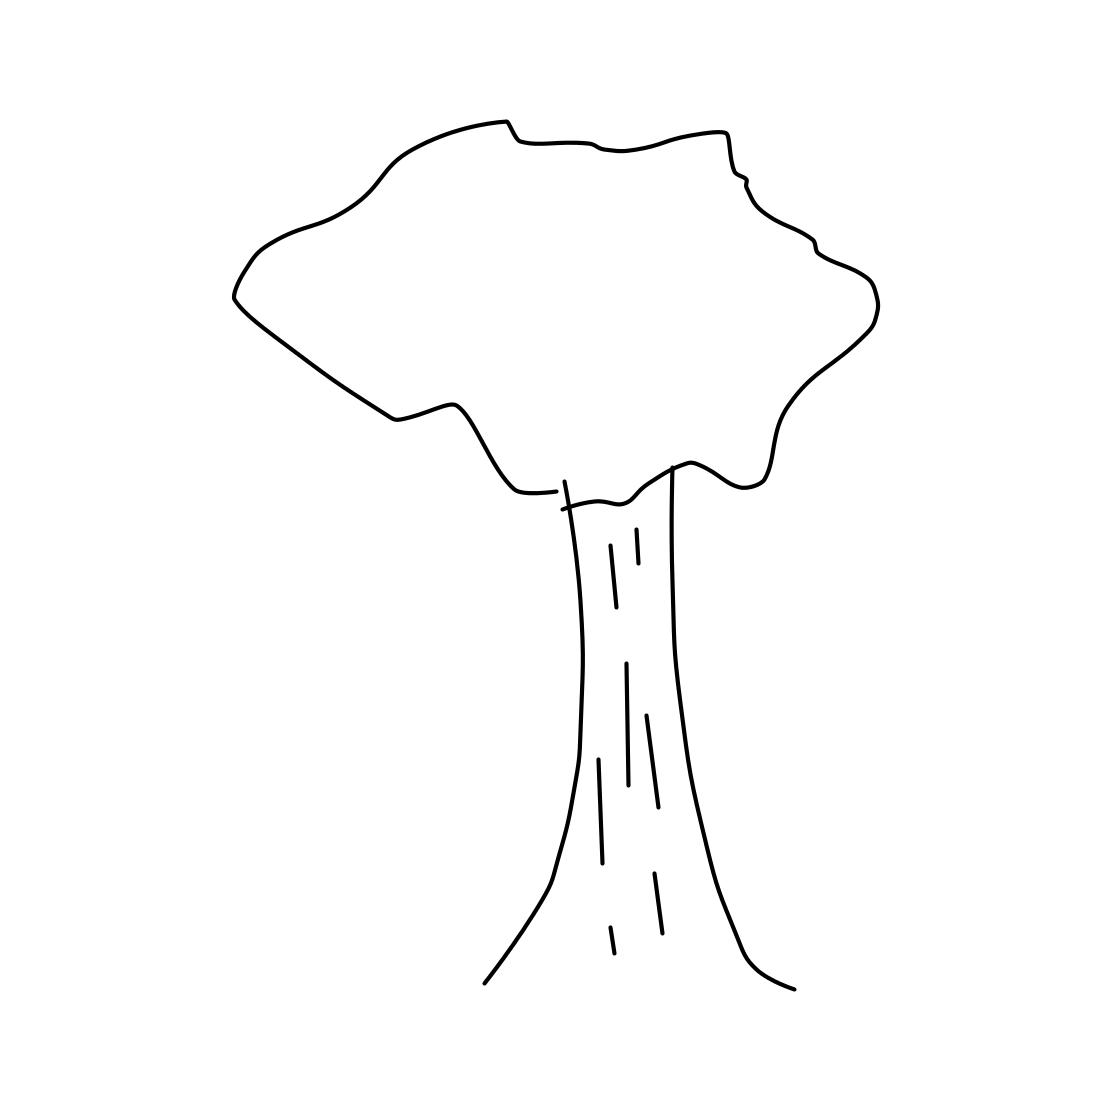Tree: (214, 70, 926, 1018)
